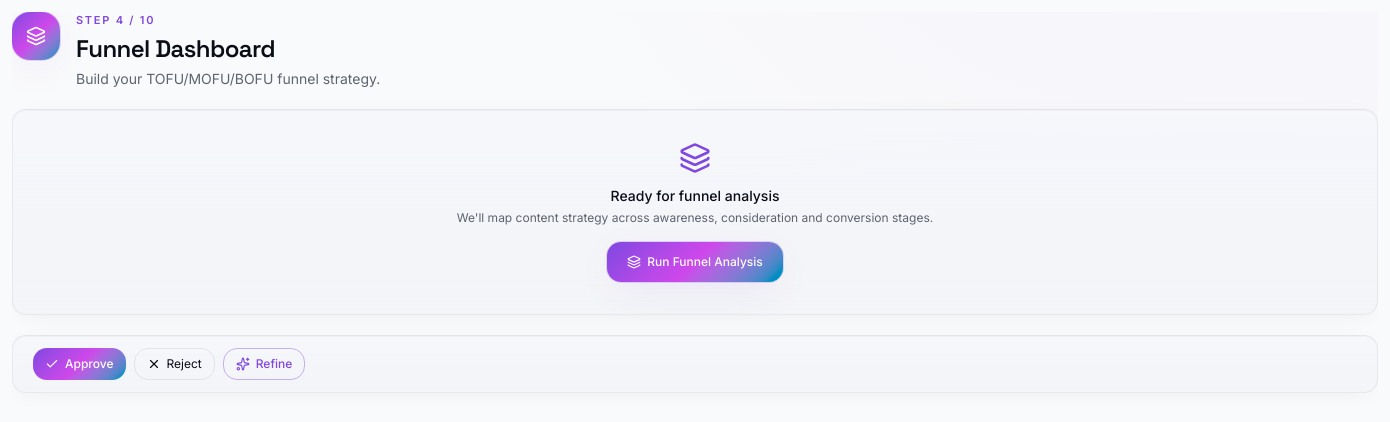
Test: Step4FunnelDashboard — per-persona CTA / KPI / budget_share (QA round 3) › renders expandable persona cards with the additive chips after a run
// collapsed default: run the step, then expand the persona card
Click the button "Run Funnel Analysis" at (695, 262), box [607,242,783,282]
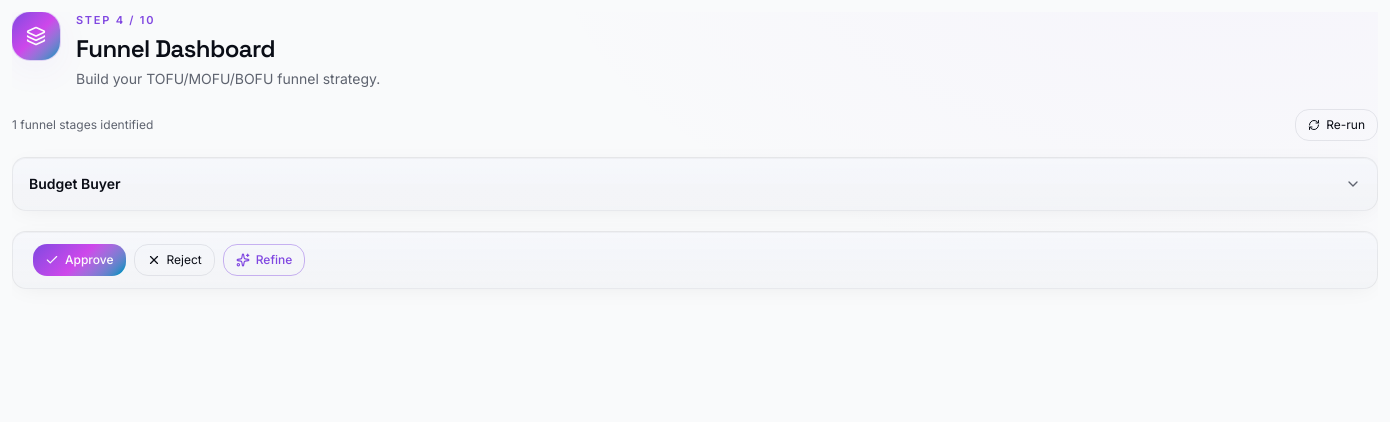
Result: the number of elements with test id "funnel-persona-card" is 1
Click the button with test id "funnel-persona-toggle" at (75, 183), box [13,158,1377,210]
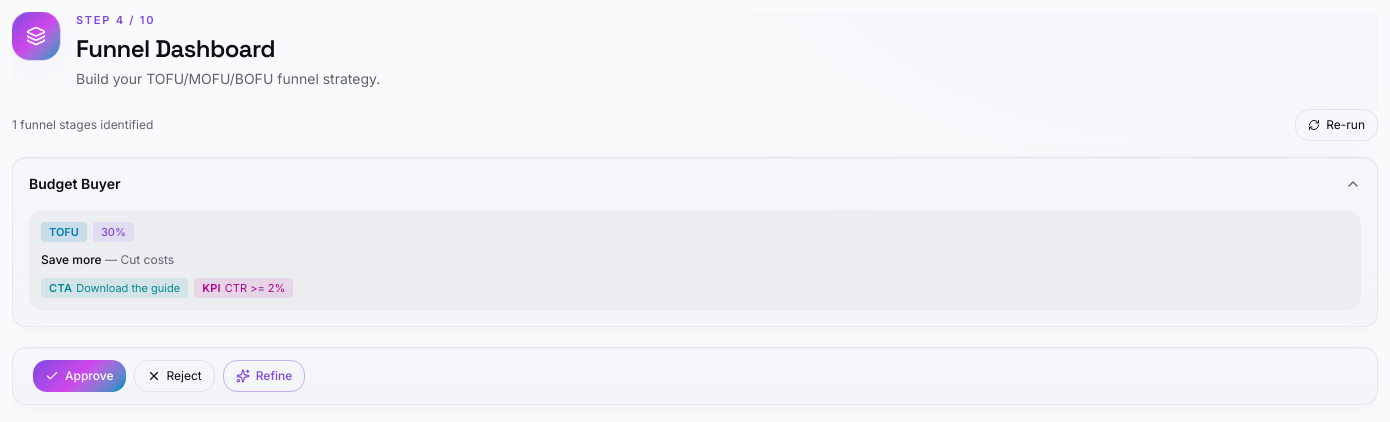
Result: the element with test id "funnel-persona-cta" shows "Download the guide" at [76,280,180,294]
Result: the element with test id "funnel-persona-kpi" shows "CTR >= 2%" at [225,280,285,294]
Result: the text with test id "funnel-persona-budget" reads "30%" at [101,224,126,238]
